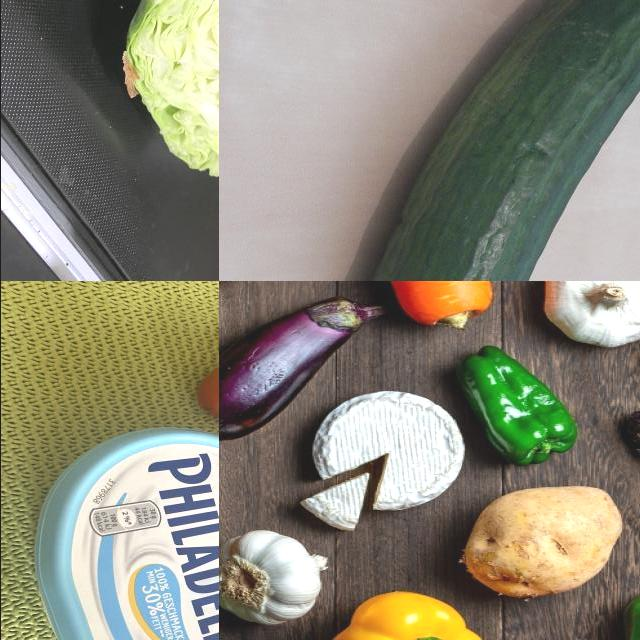cabbage: (115, 1, 219, 200)
carrot: (364, 282, 494, 332)
cucumber: (306, 1, 640, 282)
eggplant: (219, 297, 380, 455)
